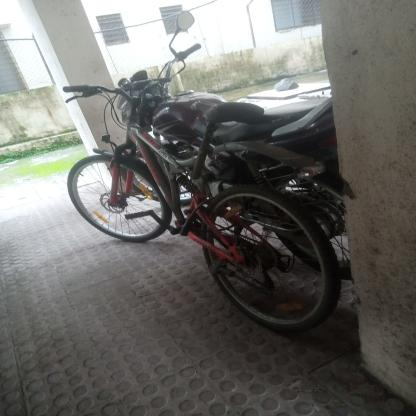bicycle: (37, 70, 379, 349)
